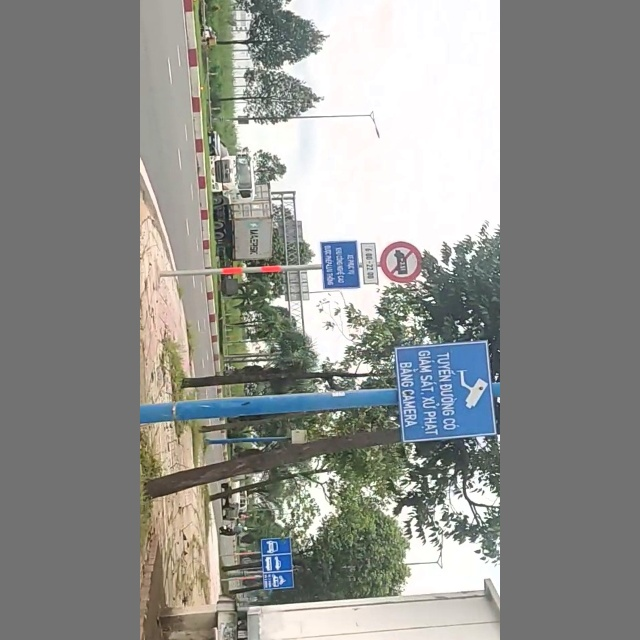Camera: (395, 344, 499, 440)
